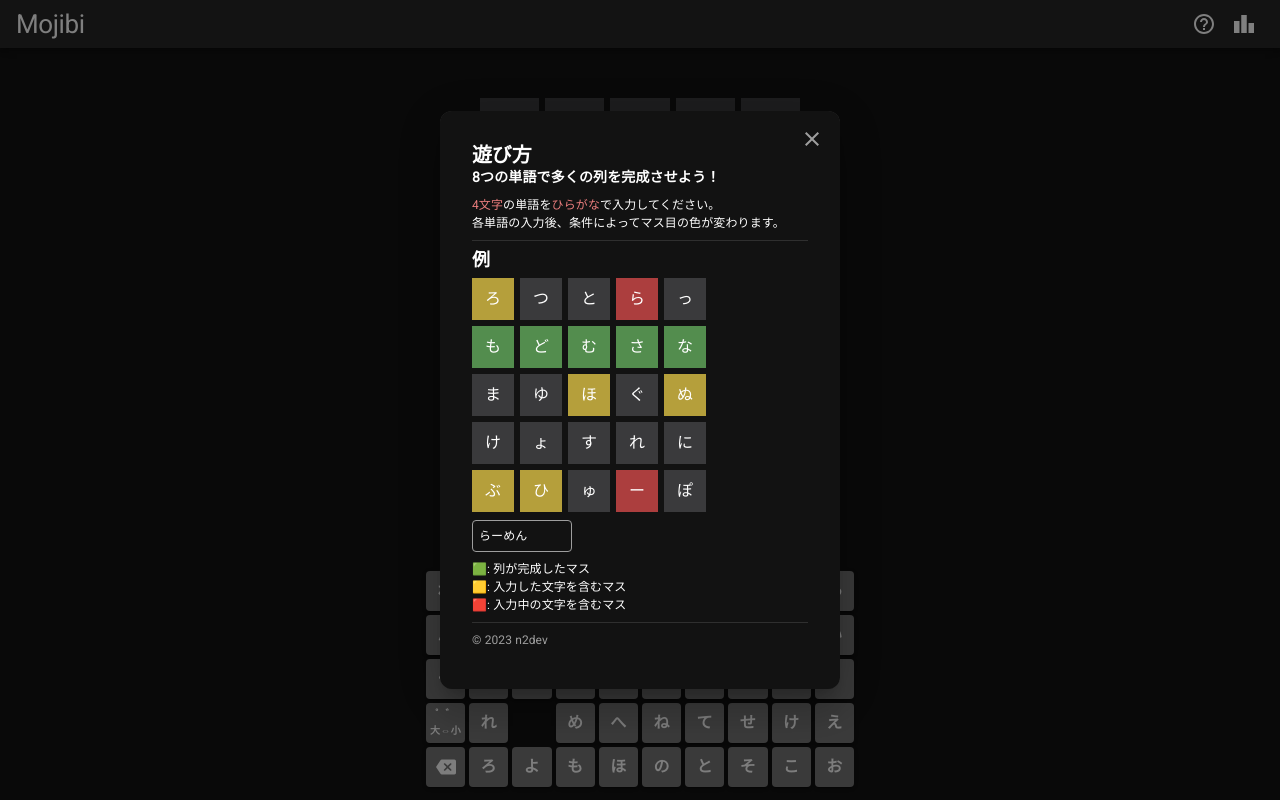
it: App component › Header › should display how-to-play dialog and close it
The width and height of the screenshot is (1280, 800).
Expected: the heading "遊び方" is shown, x1=472 y1=143 x2=532 y2=167
Click the button with test id "how-to-play-dialog-close-button": {"x": 812, "y": 139} x1=792 y1=119 x2=832 y2=159
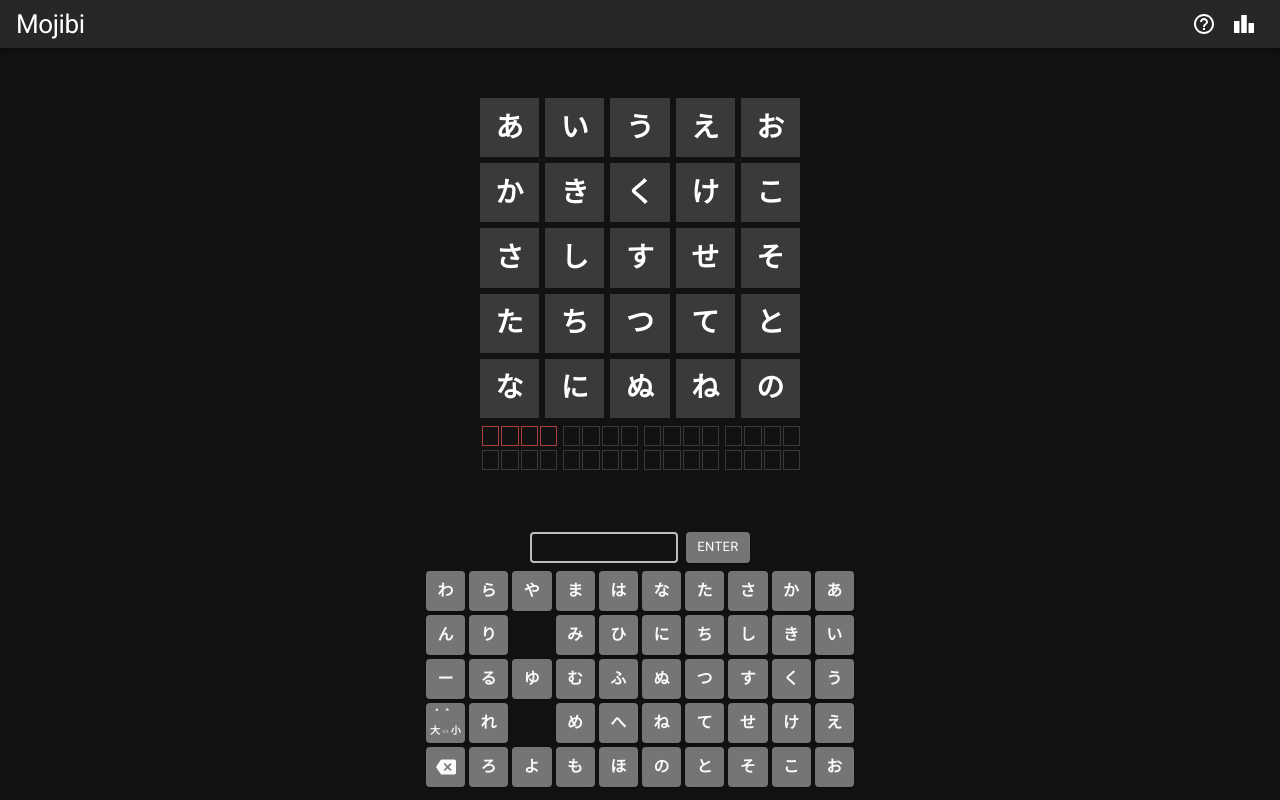
Expected: the heading "Mojibi" is shown, x1=16 y1=9 x2=85 y2=39
Now the element with test id "how-to-play-dialog" is gone
